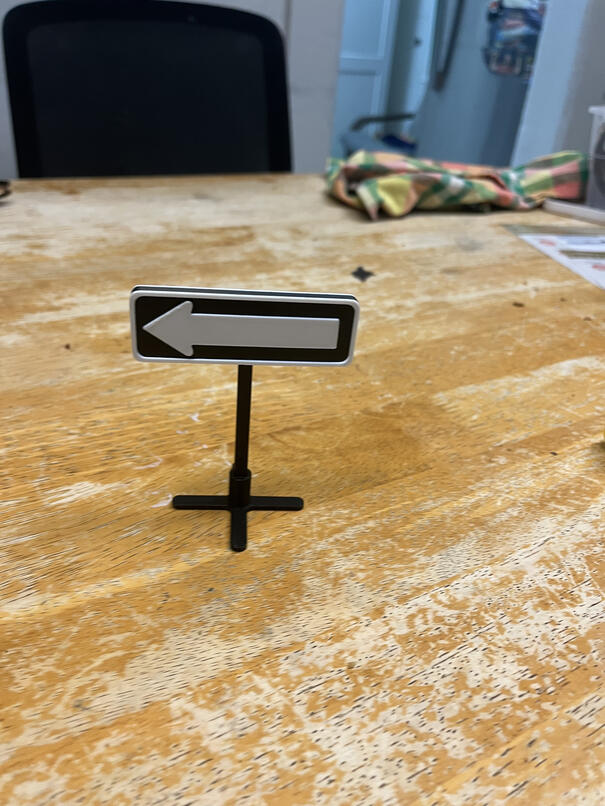sign_oneway_left: (124, 283, 358, 368)
